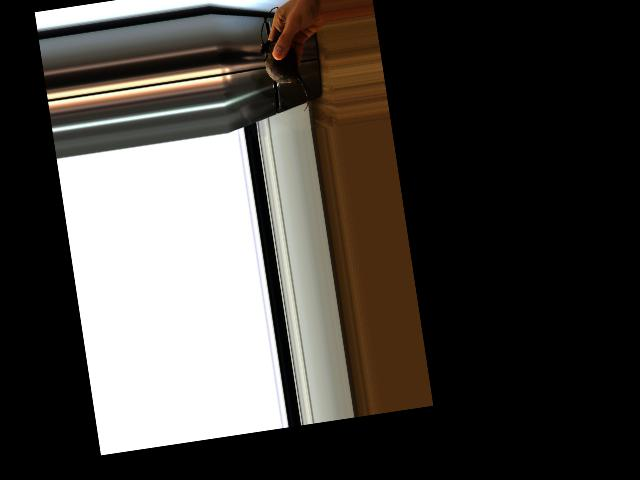beet: (255, 4, 310, 116)
